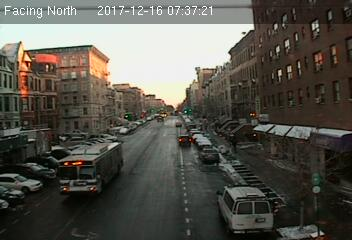bus: (53, 140, 122, 199)
car: (199, 148, 219, 163), (177, 134, 191, 145)
police: (215, 182, 275, 235)
